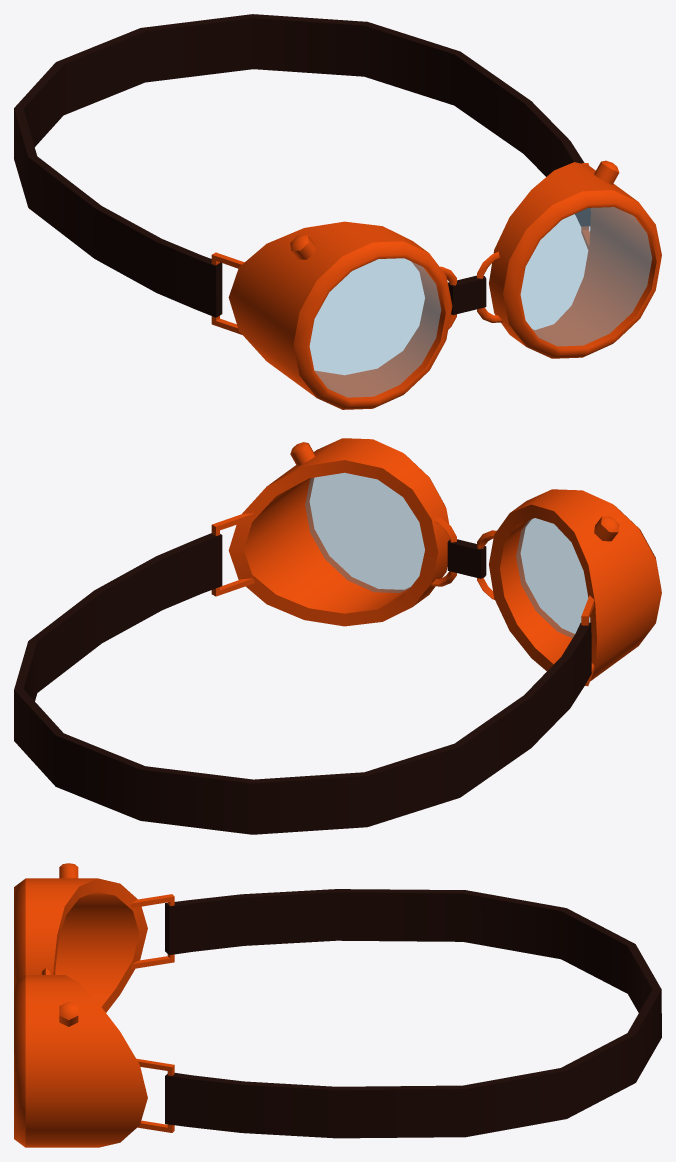
Rendered from SteampunkGoggles.fbx.
3 views of the same model, one above another, from view 1: azimuth 30°, elevation 25°; view 2: azimuth 150°, elevation 25°; view 3: azimuth 270°, elevation 25° (orthographic). The views are drawn at different scales.
Visible parts, largest first — view 1: SteampunkGoggles; view 2: SteampunkGoggles; view 3: SteampunkGoggles.
Boxes of the visible parts, x1=… form: SteampunkGoggles: x1=14, y1=14, x2=661, y2=409; SteampunkGoggles: x1=14, y1=438, x2=661, y2=834; SteampunkGoggles: x1=14, y1=863, x2=661, y2=1147.
Bounding box in the file's own units: 73.53 × 26.95 × 100.
